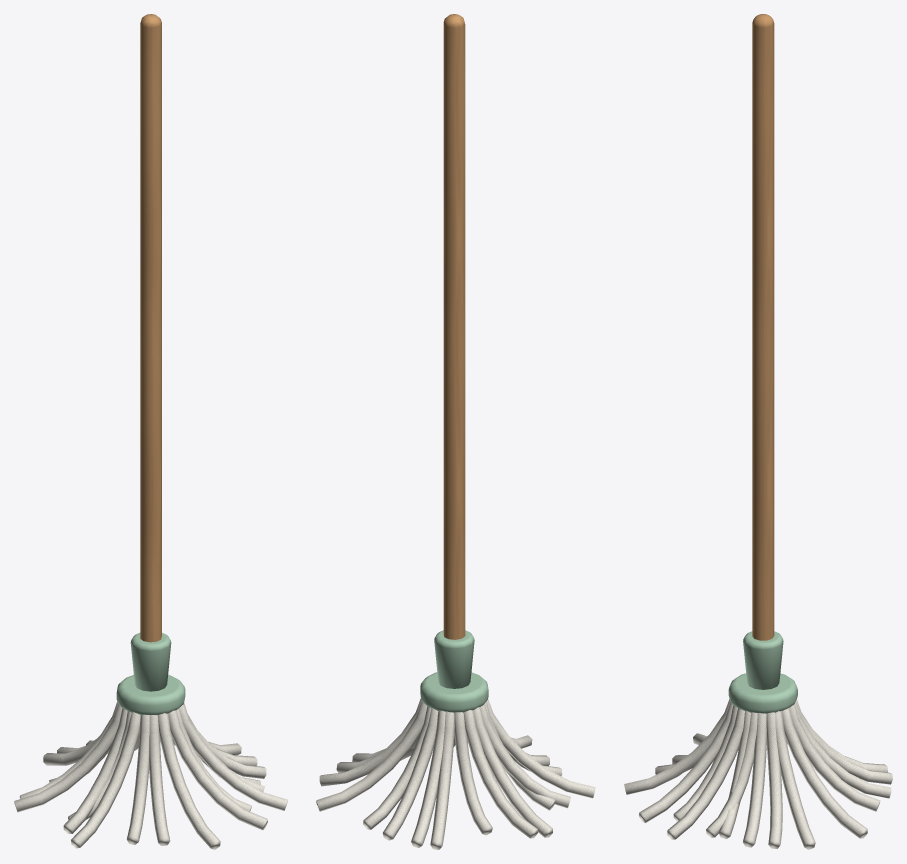
Rendered from prop_mop.glb.
The picture shows the model from 3 angles, left to right: view 1: azimuth 30°, elevation 25°; view 2: azimuth 150°, elevation 25°; view 3: azimuth 270°, elevation 25°; orthographic projection.
Parts seen in each view (by area): view 1: prop_mop; view 2: prop_mop; view 3: prop_mop.
Boxes of the visible parts, bbox=[...] form: prop_mop: bbox=[14, 14, 287, 849]; prop_mop: bbox=[316, 14, 595, 849]; prop_mop: bbox=[624, 14, 892, 849].
Size of the model in its own units: 0.3815 by 1.25 by 0.3887.
Materials: 3 (2 with a texture image).
